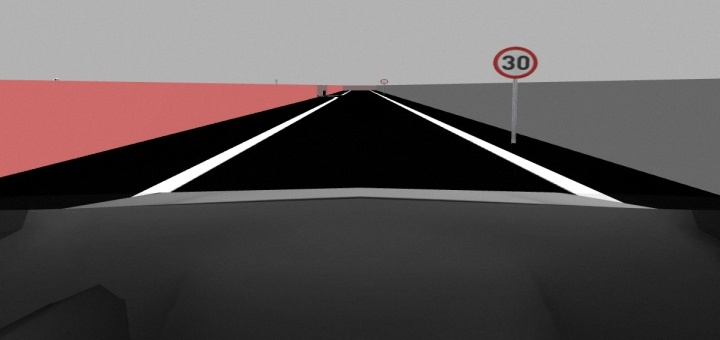hiz_30: (493, 44, 538, 78)
